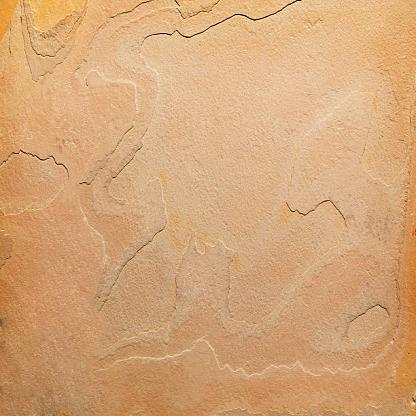Sedimentary_Sandstone: (7, 5, 415, 415)
